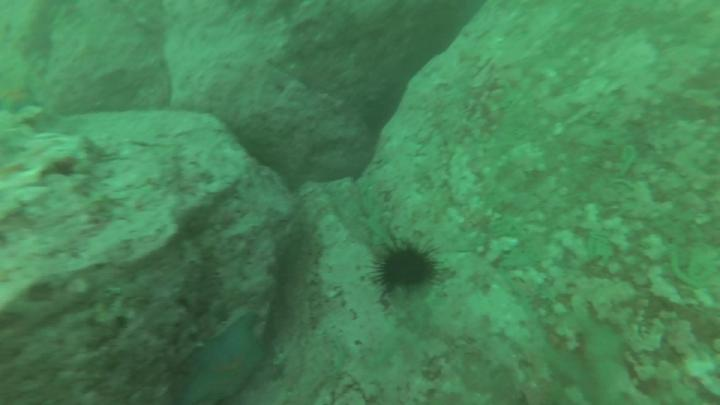echinus: (369, 236, 446, 303)
starfish: (189, 317, 267, 405)
